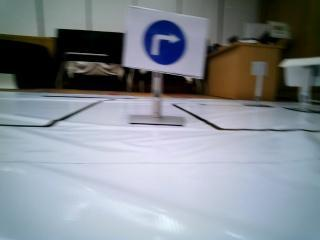right: (136, 12, 196, 73)
